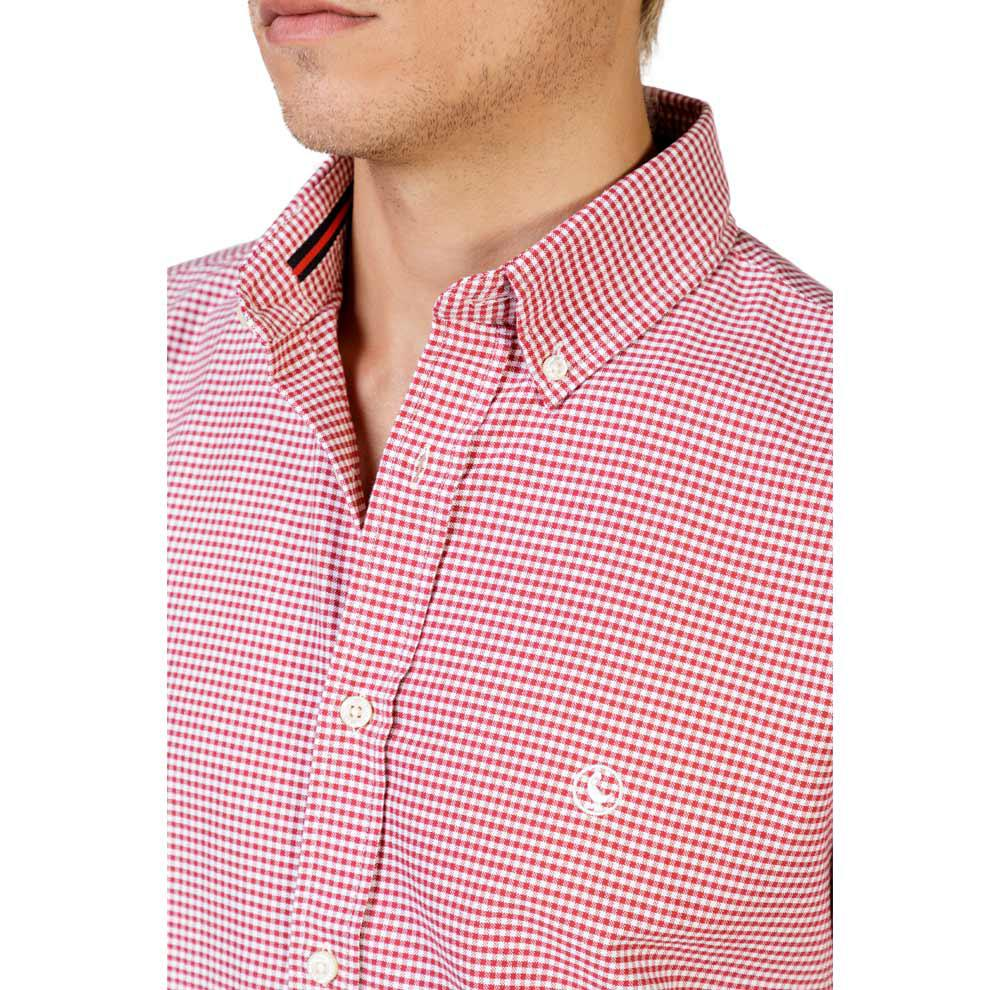teeshirt: (161, 84, 849, 990)
